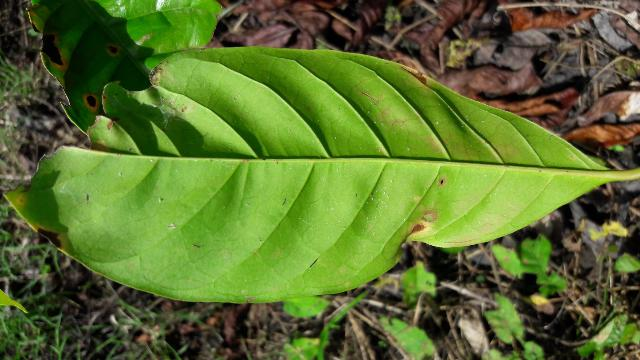rust_level_1: (14, 53, 609, 304)
